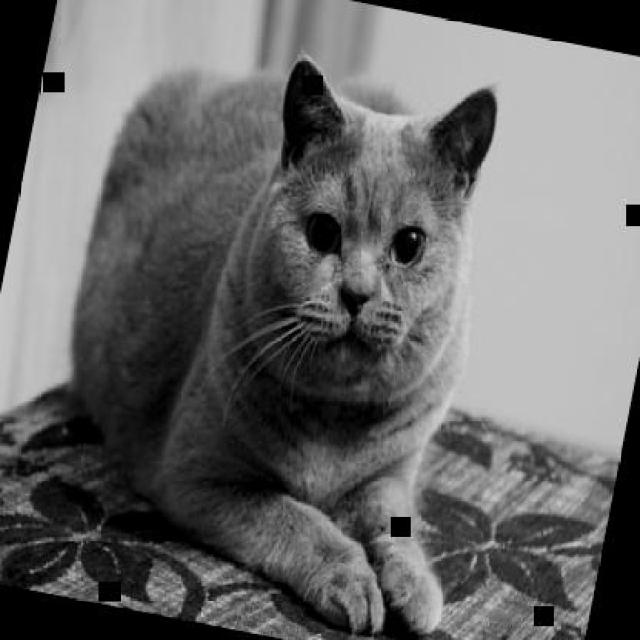cat: (22, 16, 543, 638)
